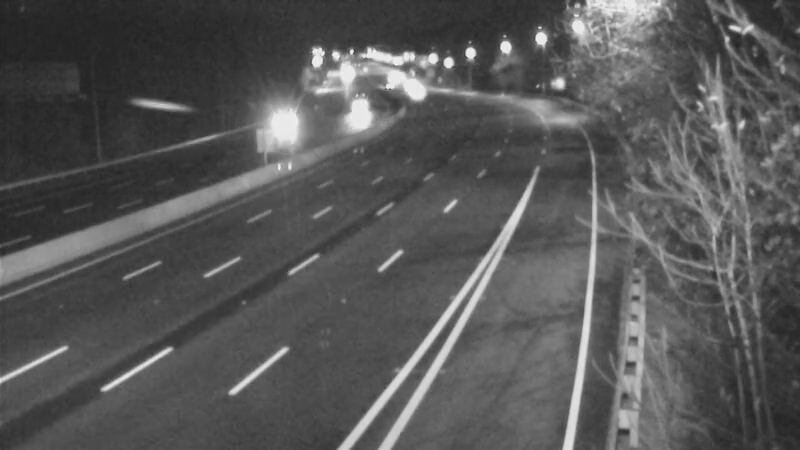vehicle: (389, 67, 439, 117), (256, 92, 306, 142), (337, 84, 387, 134)
